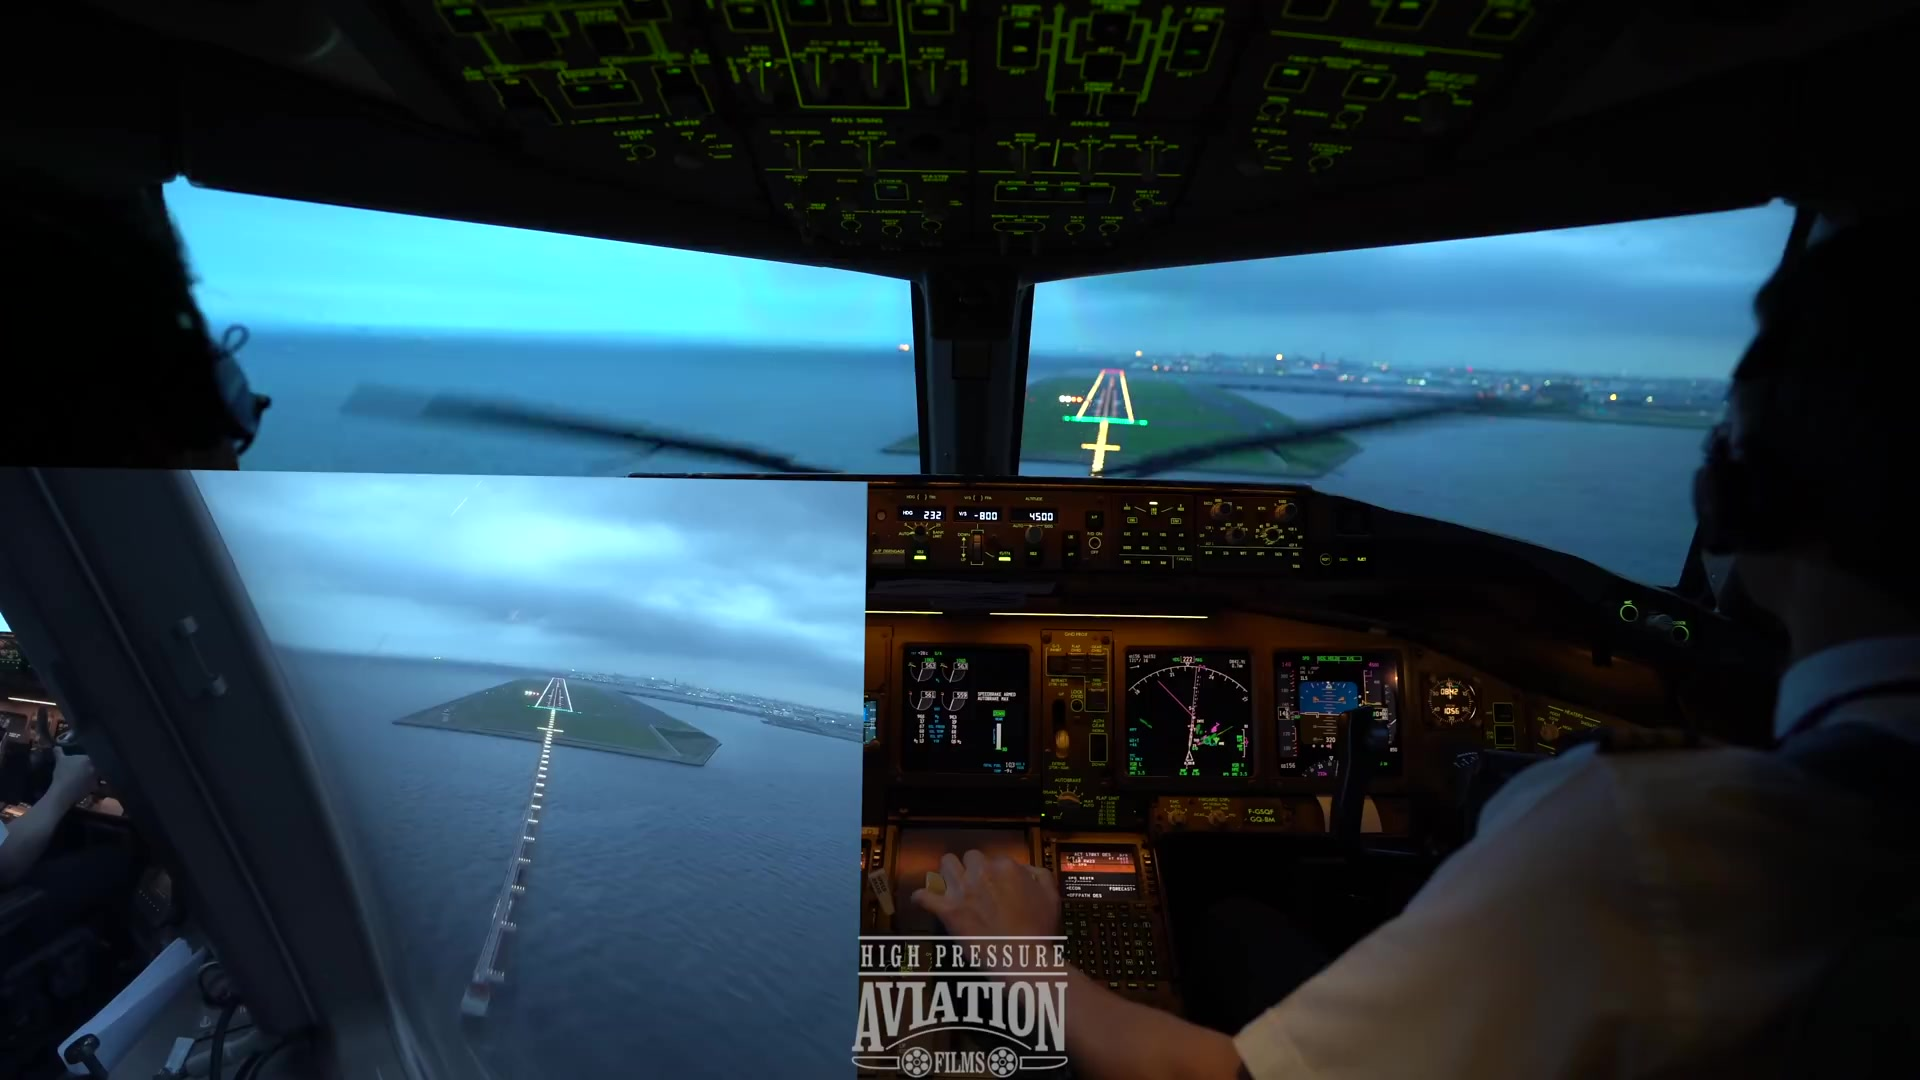runway: (1077, 367, 1137, 422), (530, 675, 580, 713)
